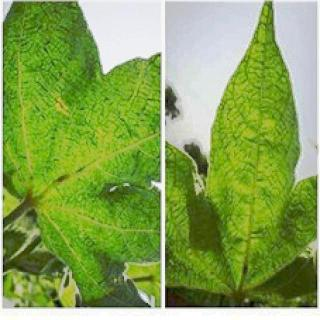curl: (8, 7, 152, 268), (188, 77, 316, 277)
